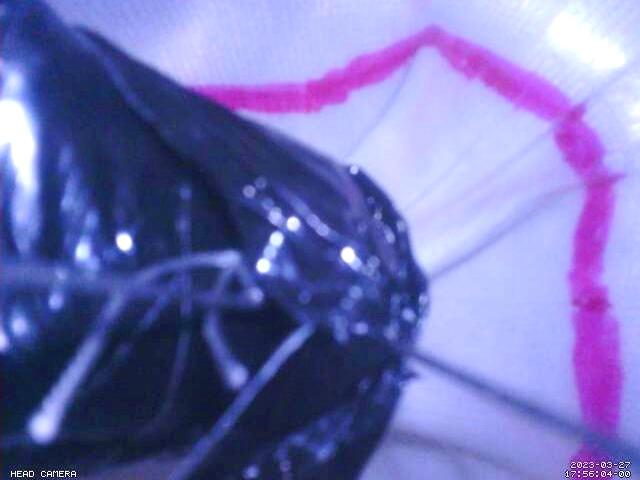red-circle: (187, 23, 626, 480)
